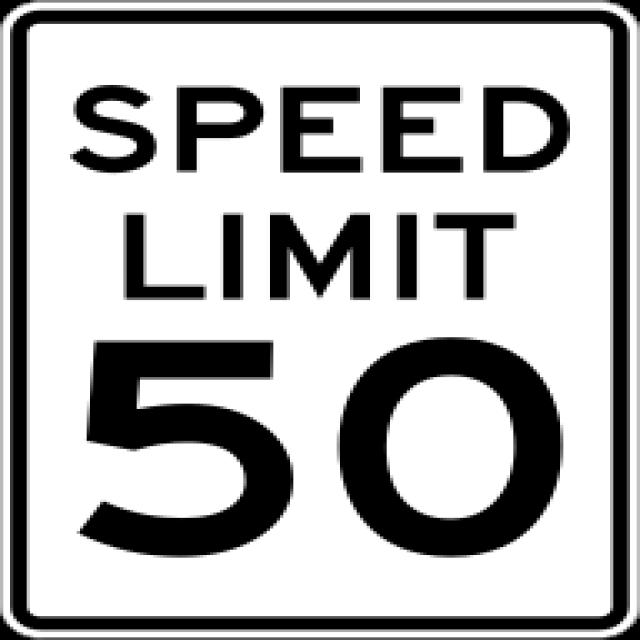Speed Limit -50-: (53, 308, 596, 577)
